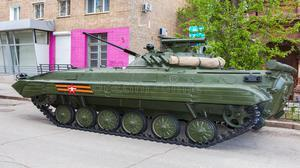bmp: (11, 32, 296, 146)
